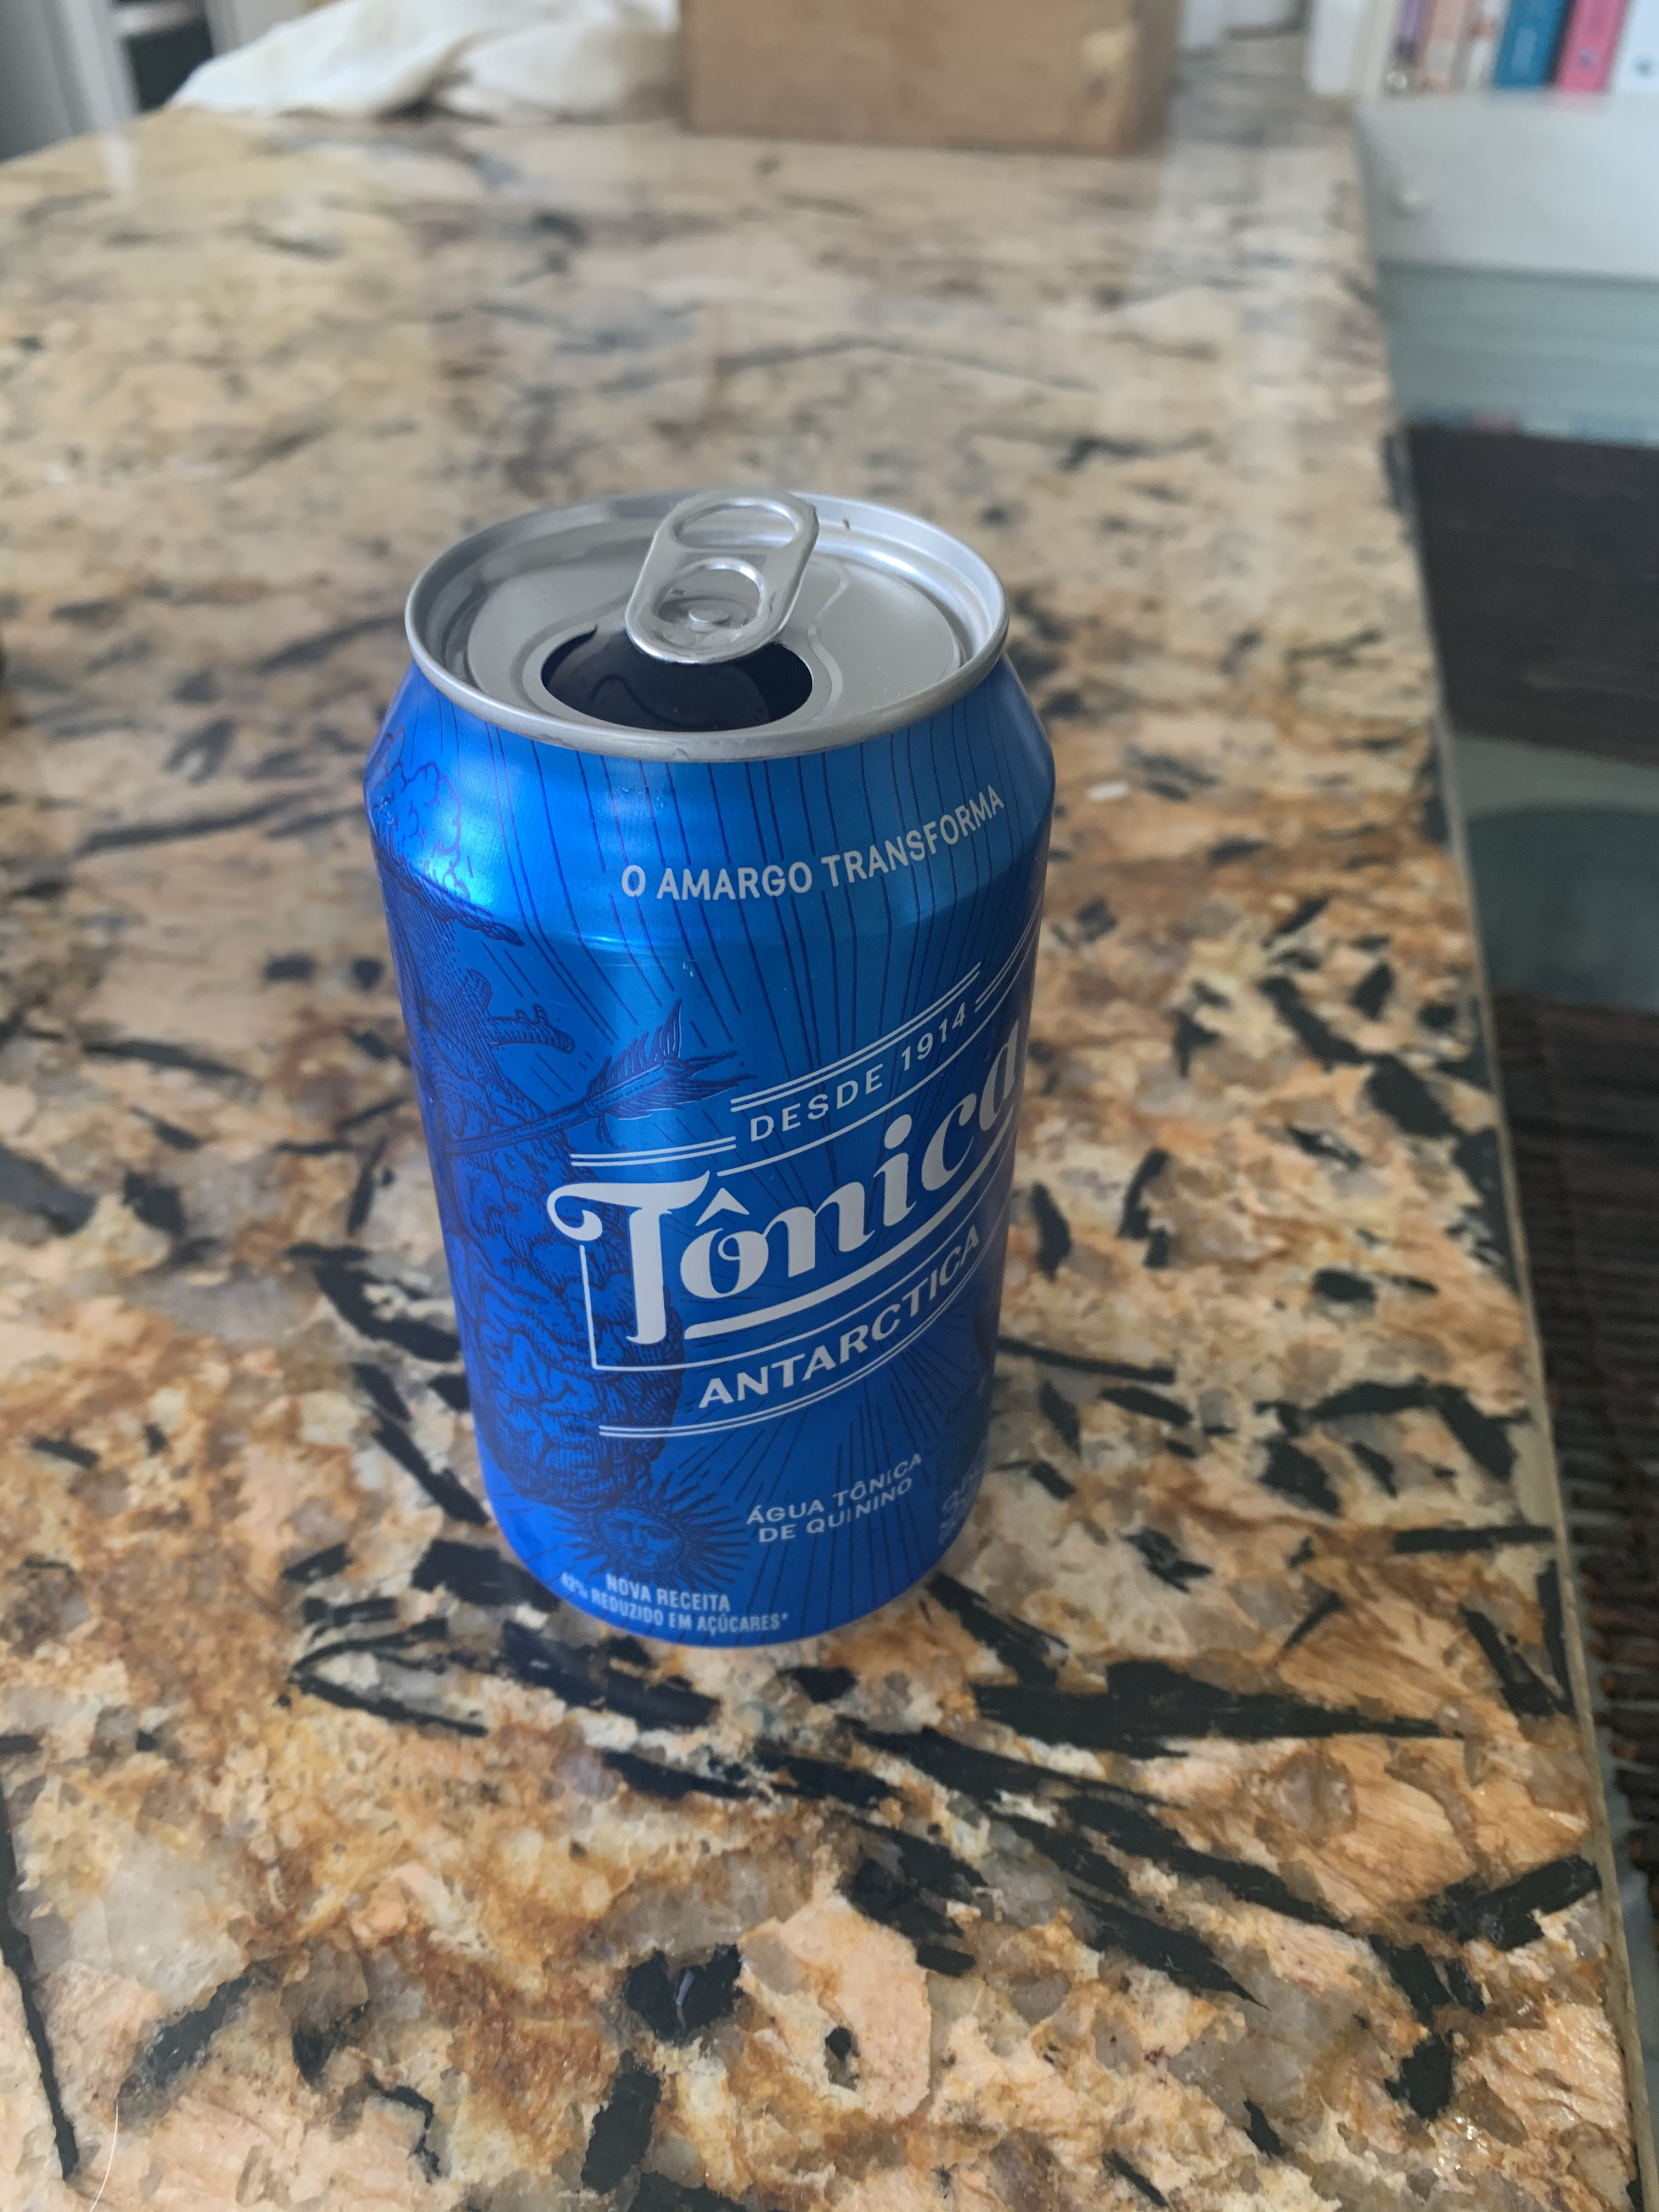tonica: (321, 505, 1089, 1655)
